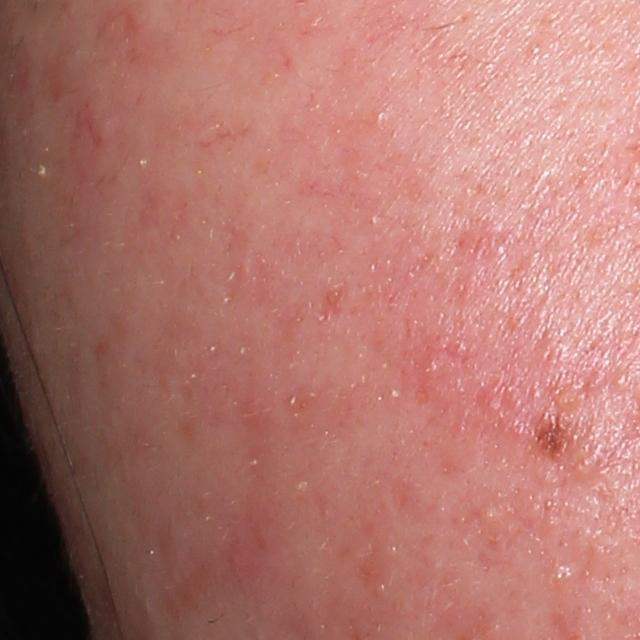atrophic_scar: (318, 285, 347, 322)
comedo: (371, 105, 390, 125)
nevus: (536, 421, 564, 457)
